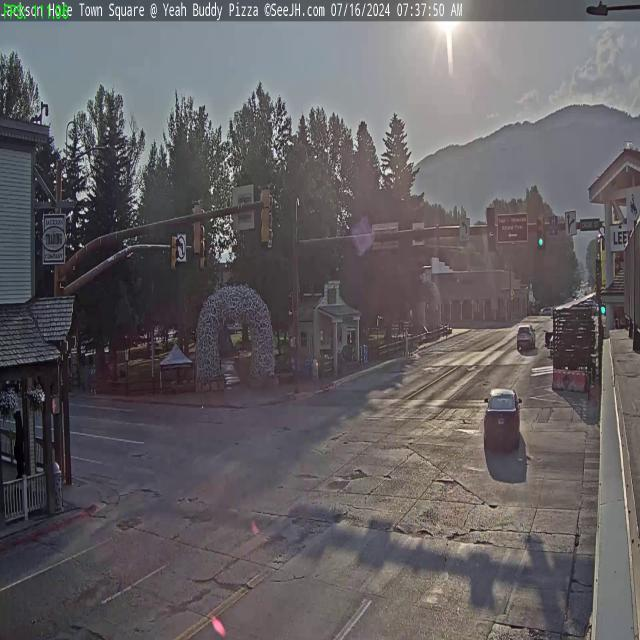suv: (484, 385, 522, 452), (516, 323, 535, 351)
traffic light: (260, 184, 272, 245), (190, 200, 203, 256), (486, 208, 496, 254), (170, 234, 179, 271), (537, 214, 546, 249)
